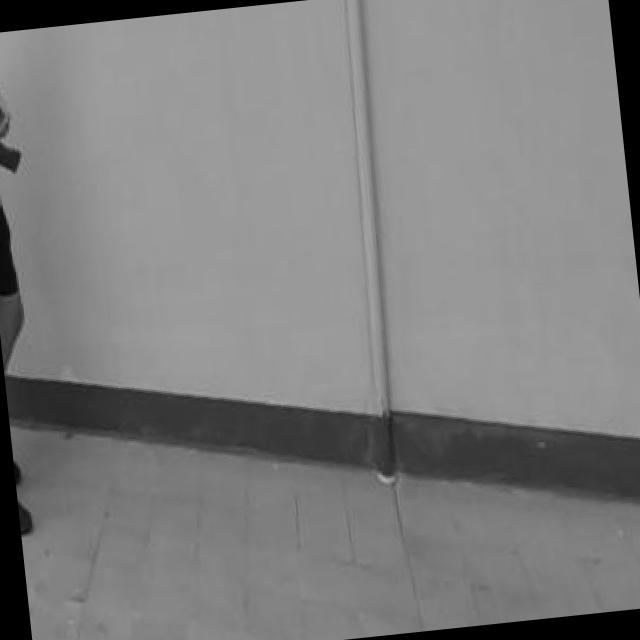Guns: (0, 116, 31, 202)
